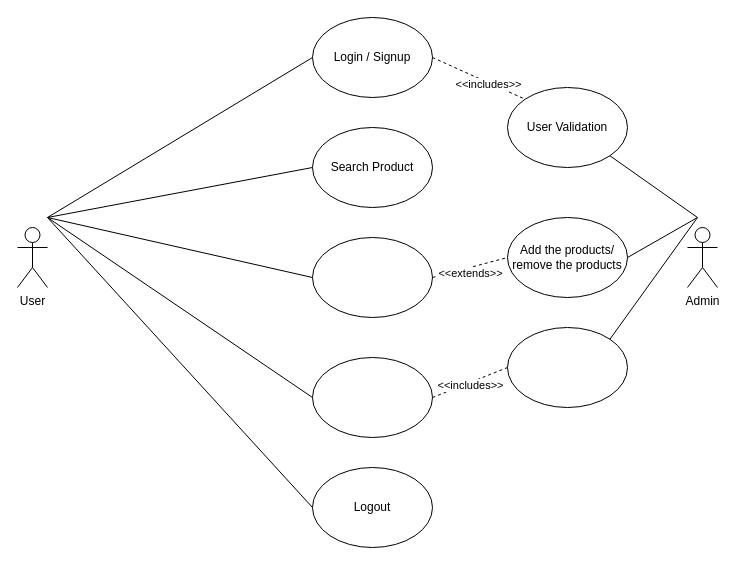
The diagram is 737 pixels wide and 565 high, and some of its shapes have lost their labels. Here are the shapes that lost their labels. From the top down, the centre of each, then its label:
At point 372,277: "Add the products to cart".
At point 567,367: "Payment validation".
At point 372,397: "Pay amount".
